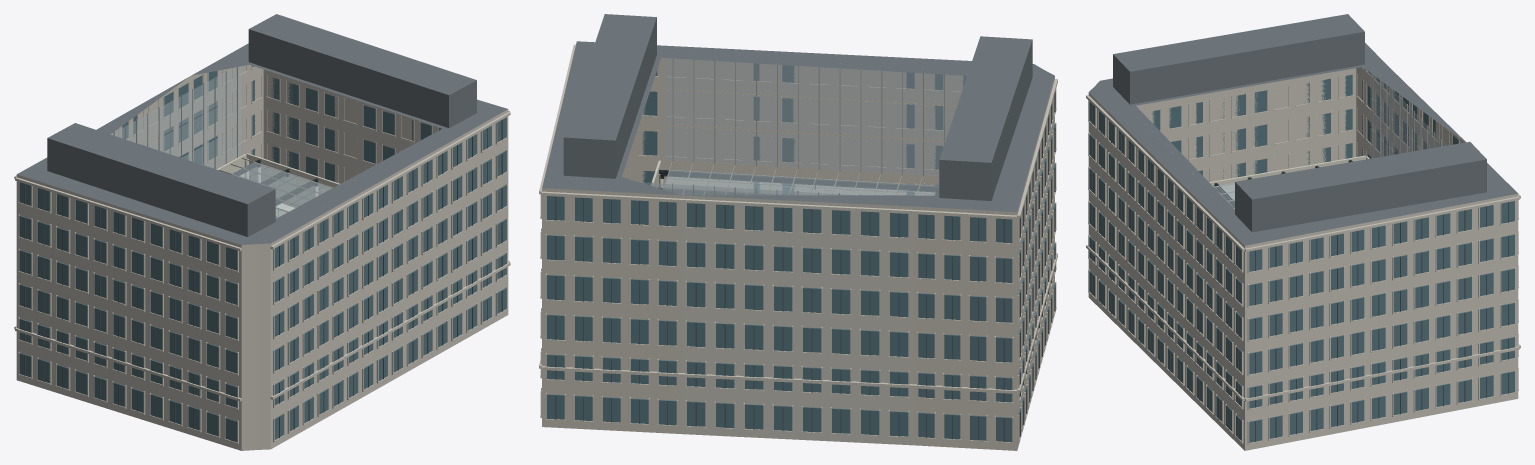
The model's file is ckk-exterior-ead5cf422b7c.glb.
3 renders of one model, left to right at view 1: azimuth 30°, elevation 25°; view 2: azimuth 150°, elevation 25°; view 3: azimuth 270°, elevation 25°, orthographic. The views are drawn at different scales.
Visible parts, largest first — view 1: CKK.001; view 2: CKK.001; view 3: CKK.001.
Boxes of the visible parts, x1=… form: CKK.001: x1=14, y1=14, x2=510, y2=450; CKK.001: x1=539, y1=14, x2=1057, y2=450; CKK.001: x1=1086, y1=14, x2=1520, y2=450.
Size of the model in its own units: 55.91 by 29.15 by 48.02.
